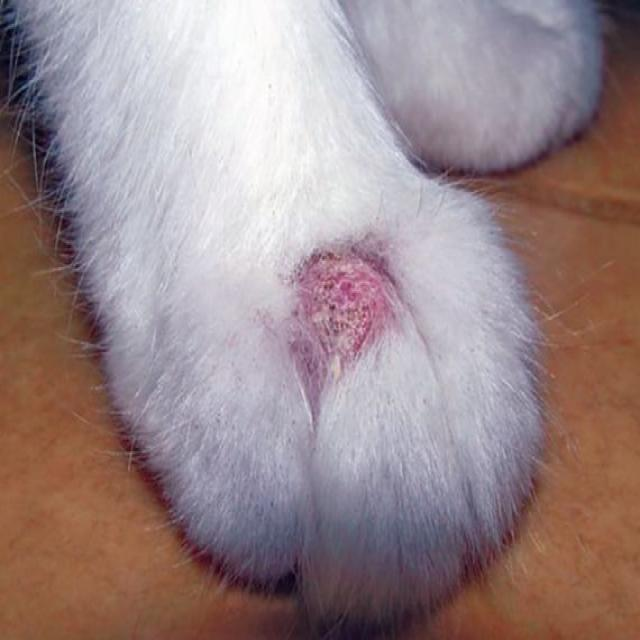cat-ringworm: (233, 204, 442, 418)
